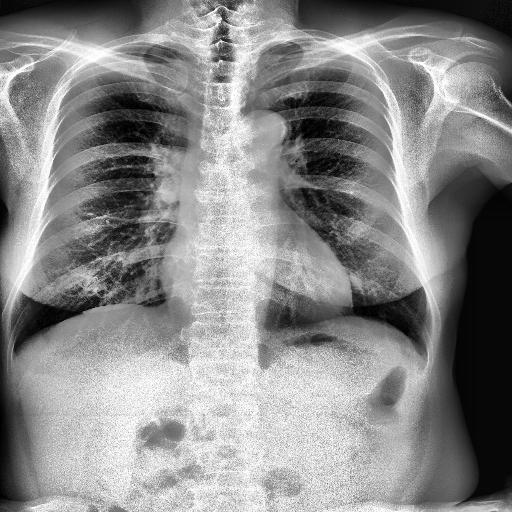0- Aortic enlargement: (234, 109, 290, 180), (236, 112, 286, 160), (238, 110, 286, 144)
